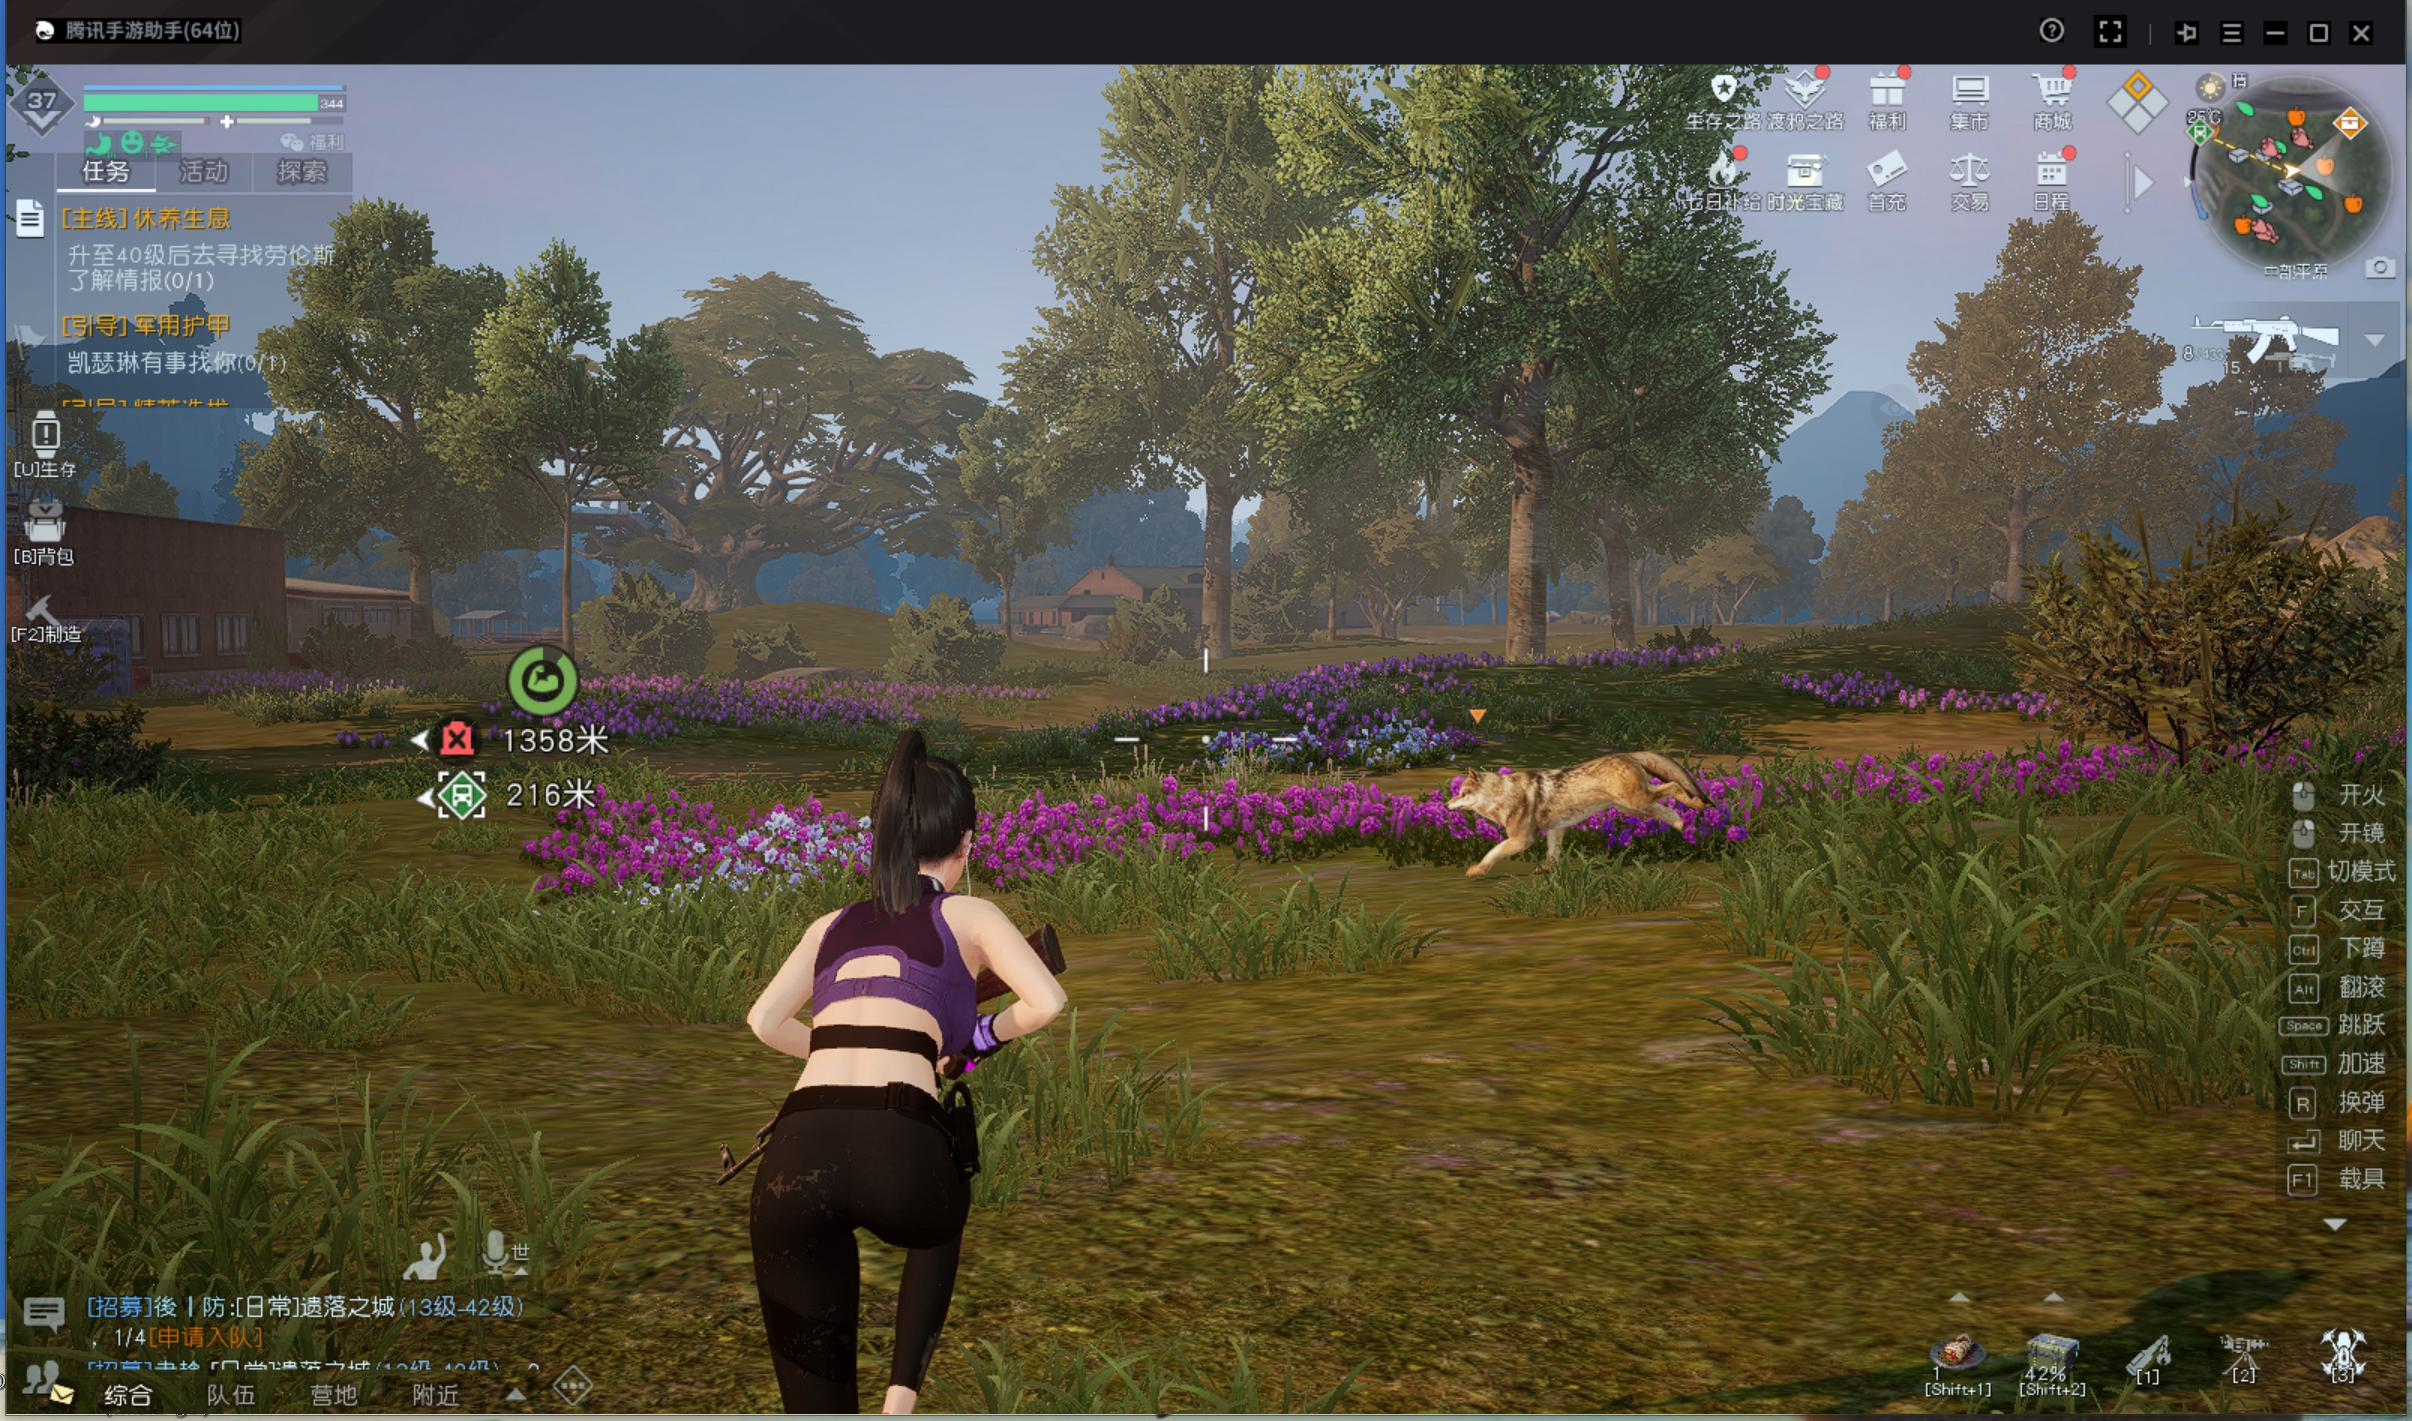tree: (1499, 408, 1573, 675), (1187, 430, 1248, 673), (403, 538, 443, 667), (1603, 553, 1641, 667), (1998, 518, 2030, 602), (560, 528, 577, 678)
